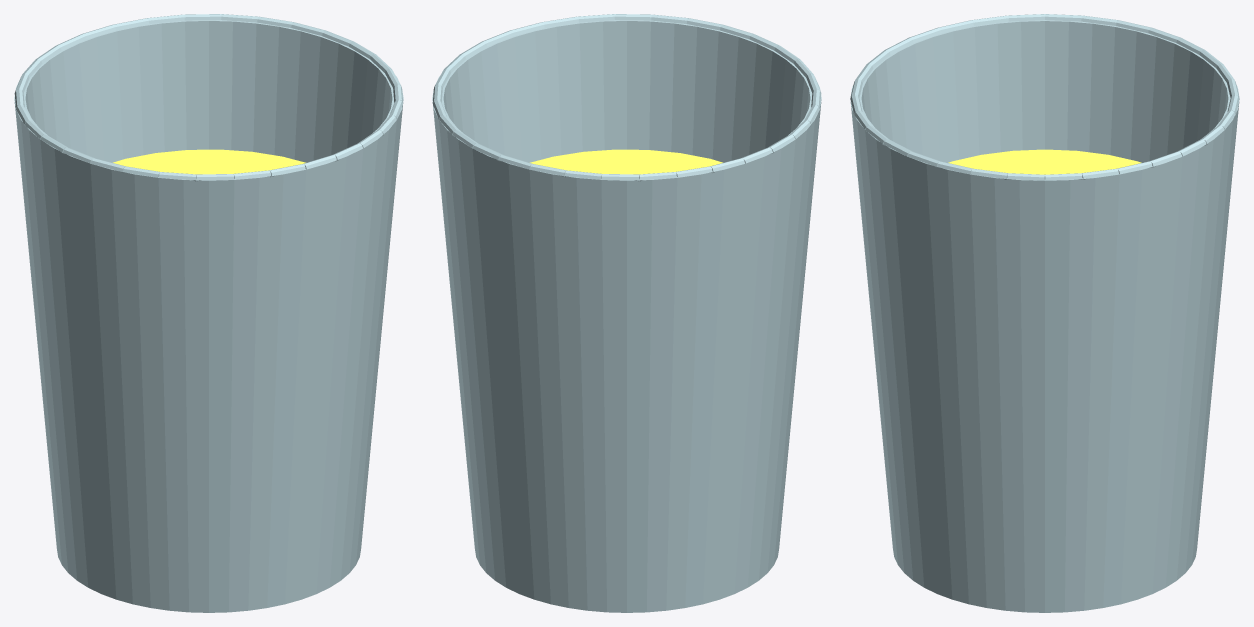
Rendered from drink_luminous_brew.glb.
3 views of the same model, side by side, from view 1: azimuth 30°, elevation 25°; view 2: azimuth 150°, elevation 25°; view 3: azimuth 270°, elevation 25° (orthographic).
Parts seen in each view (by area): view 1: clear_0001, liquid_0002; view 2: clear_0001, liquid_0002; view 3: clear_0001, liquid_0002.
Boxes of the visible parts, left/top/right/bottom form: clear_0001: left=14, top=20, right=403, bottom=612; liquid_0002: left=113, top=149, right=305, bottom=174; clear_0001: left=432, top=20, right=821, bottom=612; liquid_0002: left=530, top=149, right=722, bottom=174; clear_0001: left=850, top=20, right=1239, bottom=612; liquid_0002: left=948, top=149, right=1141, bottom=174.
Bounding box in the file's own units: 0.174 × 0.224 × 0.174.
